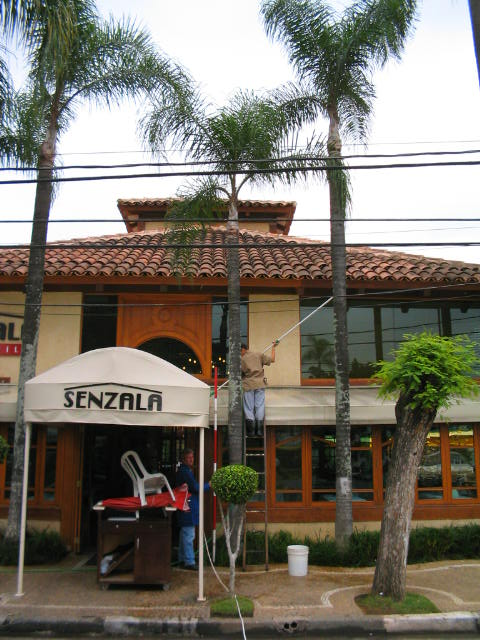crown: (139, 69, 323, 299), (4, 2, 193, 187), (261, 6, 431, 155), (367, 331, 476, 423)
stem: (317, 153, 372, 563), (4, 184, 53, 555), (371, 415, 442, 597), (218, 223, 254, 568)
stick: (204, 364, 223, 566)
tree: (1, 1, 196, 568), (258, 2, 432, 564), (137, 68, 325, 572), (364, 328, 476, 599)
